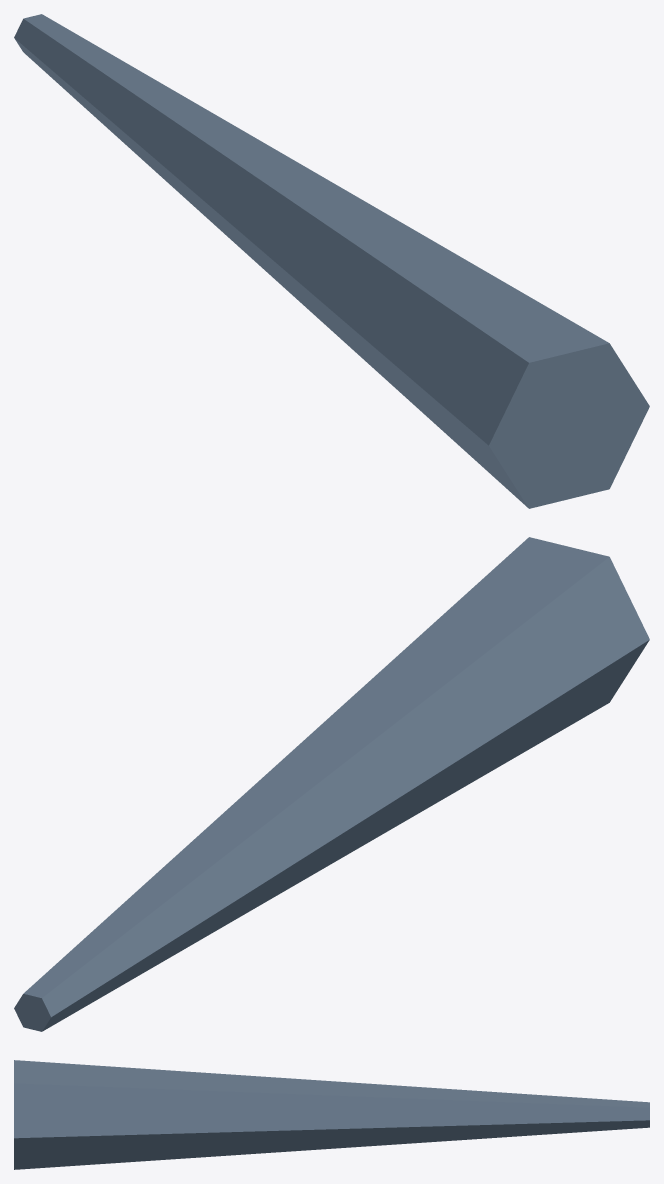
The model's file is flow-saber-v1.glb.
The picture shows the model from 3 angles, top to bottom: view 1: azimuth 30°, elevation 25°; view 2: azimuth 150°, elevation 25°; view 3: azimuth 270°, elevation 25°; orthographic projection. The views are drawn at different scales.
Visible parts, largest first — view 1: flow-saber-v1/shell; view 2: flow-saber-v1/shell; view 3: flow-saber-v1/shell.
Part boxes in pixels (box(x1,y1,x2,y2)): flow-saber-v1/shell: box(14, 14, 649, 508); flow-saber-v1/shell: box(14, 537, 649, 1031); flow-saber-v1/shell: box(14, 1060, 649, 1169).
Size of the model in its own units: 0.13 by 0.1126 by 0.75.
